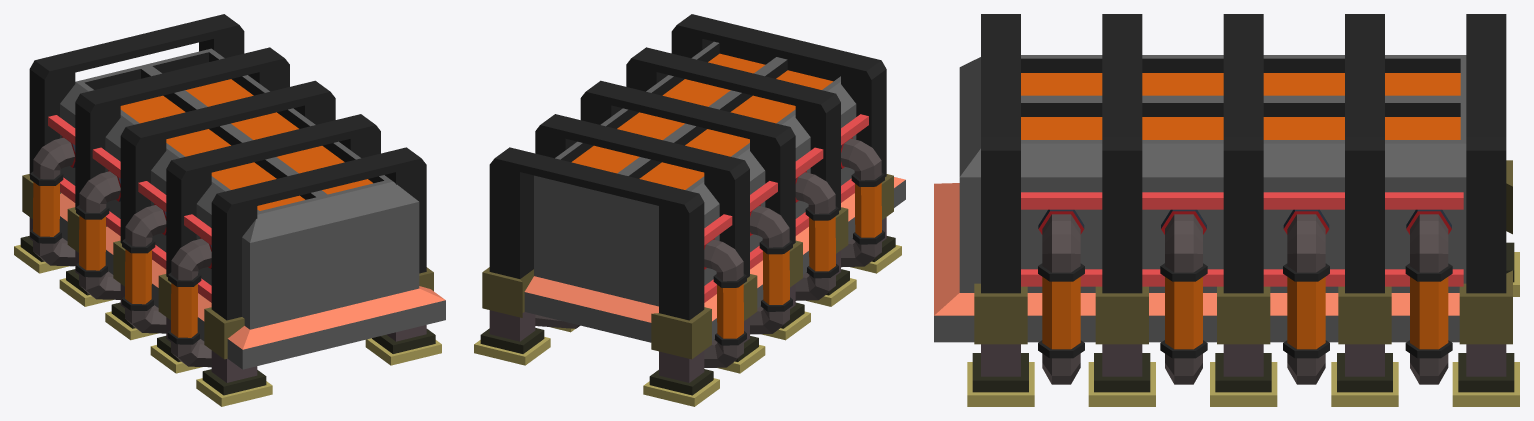
Rendered from SmelterSingleMat.fbx.
The picture shows the model from 3 angles, left to right: view 1: azimuth 30°, elevation 25°; view 2: azimuth 150°, elevation 25°; view 3: azimuth 270°, elevation 25°; orthographic projection. The views are drawn at different scales.
Visible parts, largest first — view 1: Smelter_LOD0; view 2: Smelter_LOD0; view 3: Smelter_LOD0.
Boxes of the visible parts, <box> form: Smelter_LOD0: <box>14,14,445,406</box>; Smelter_LOD0: <box>474,14,905,406</box>; Smelter_LOD0: <box>934,14,1519,406</box>.
Size of what is drawn, in the model's own units: 587 by 440 by 900.
Materials: 3 (1 with a texture image).
